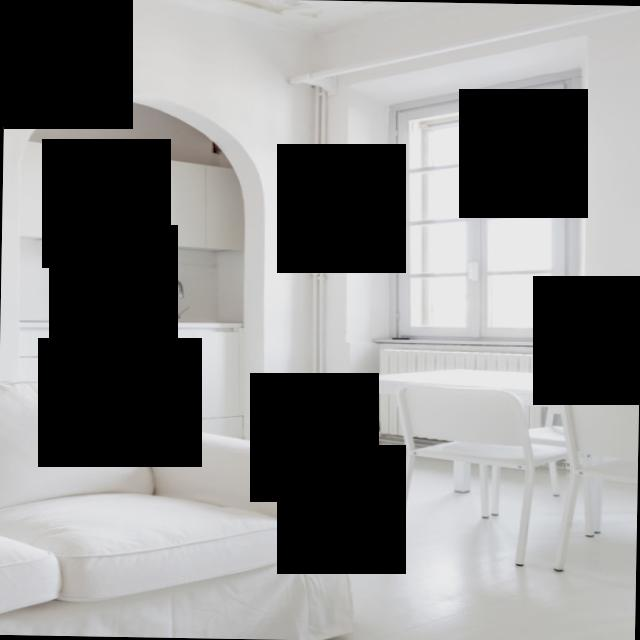white chair: (374, 386, 559, 572)
white sofa: (0, 378, 359, 640)
